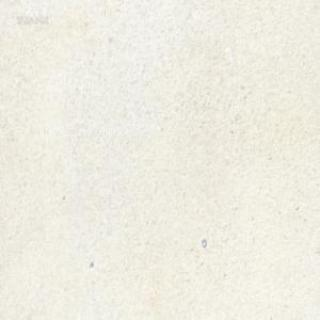Washertrack_idkeyframe: (201, 236, 207, 246)
